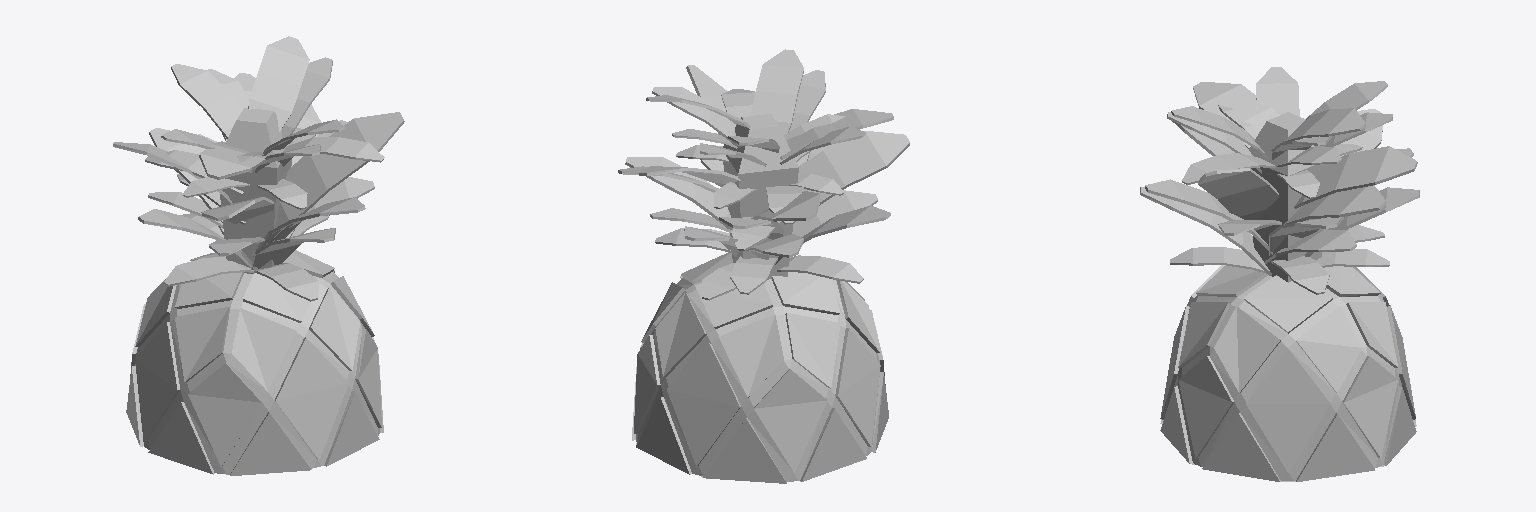
The model's file is pineapple_top.obj.
3 renders of one model, left to right at view 1: azimuth 30°, elevation 25°; view 2: azimuth 150°, elevation 25°; view 3: azimuth 270°, elevation 25°, orthographic.
Parts seen in each view (by area): view 1: pineapple_top; view 2: pineapple_top; view 3: pineapple_top.
Boxes of the visible parts, <box> form: pineapple_top: <box>113,36,404,475</box>; pineapple_top: <box>618,49,909,483</box>; pineapple_top: <box>1140,67,1419,481</box>.
Size of the model in its own units: 1.59 by 2.21 by 1.64.